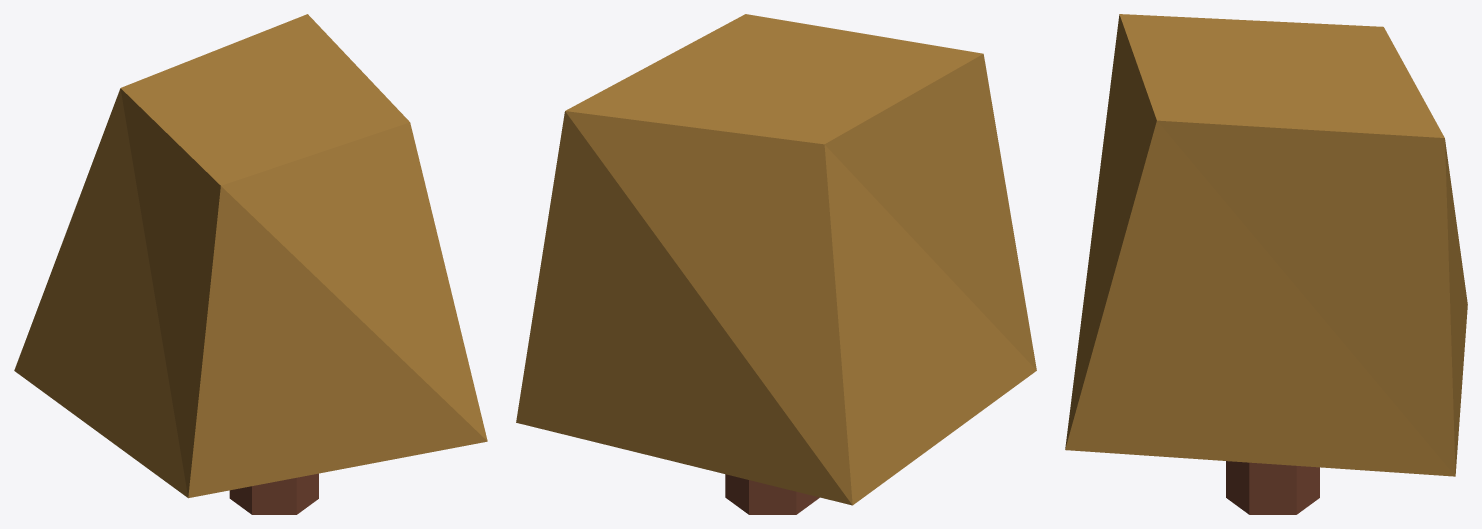
File: Bush_11_autumn_vc.fbx
3 views of the same model, side by side, from view 1: azimuth 30°, elevation 25°; view 2: azimuth 150°, elevation 25°; view 3: azimuth 270°, elevation 25° (orthographic). The views are drawn at different scales.
Visible parts, largest first — view 1: Bush_11_autumn_vc; view 2: Bush_11_autumn_vc; view 3: Bush_11_autumn_vc.
Boxes of the visible parts, box(x1,y1,x2,y2) form: Bush_11_autumn_vc: box(14, 14, 487, 514); Bush_11_autumn_vc: box(516, 14, 1036, 514); Bush_11_autumn_vc: box(1065, 14, 1467, 514).
Size of the model in its own units: 50.88 by 59.59 by 51.95.
